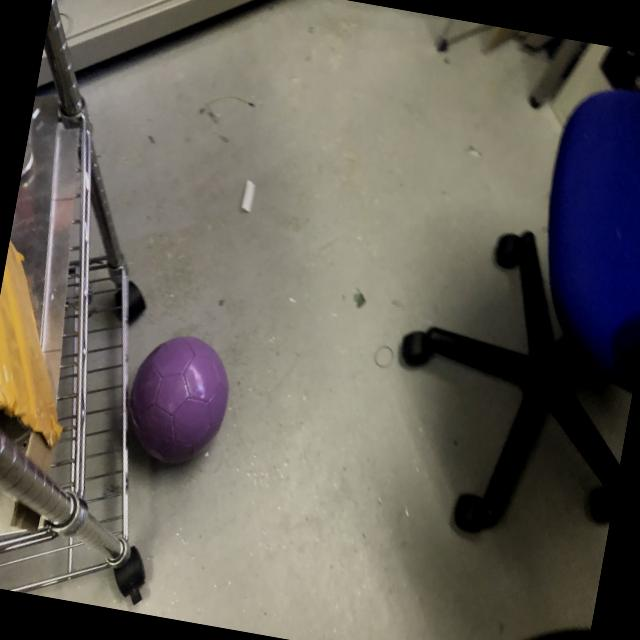purple_ball: (120, 330, 238, 472)
